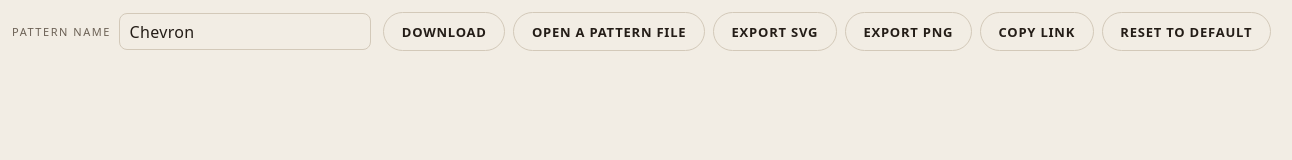
Scenario: FileMenu › reports a corrupt palette instead of the share button crashing
Click the button "Copy link". click: (1037, 32)
box: [980,12,1094,51]
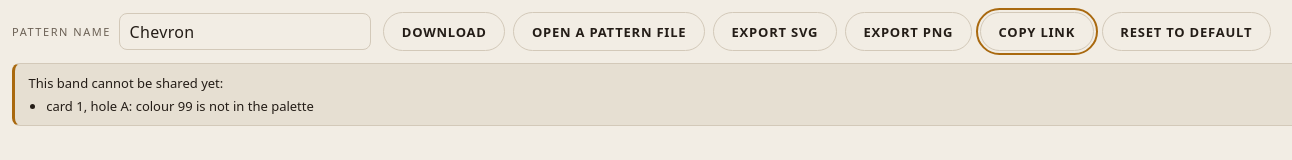
Expected: the list item is shown, [46,97,314,115]
